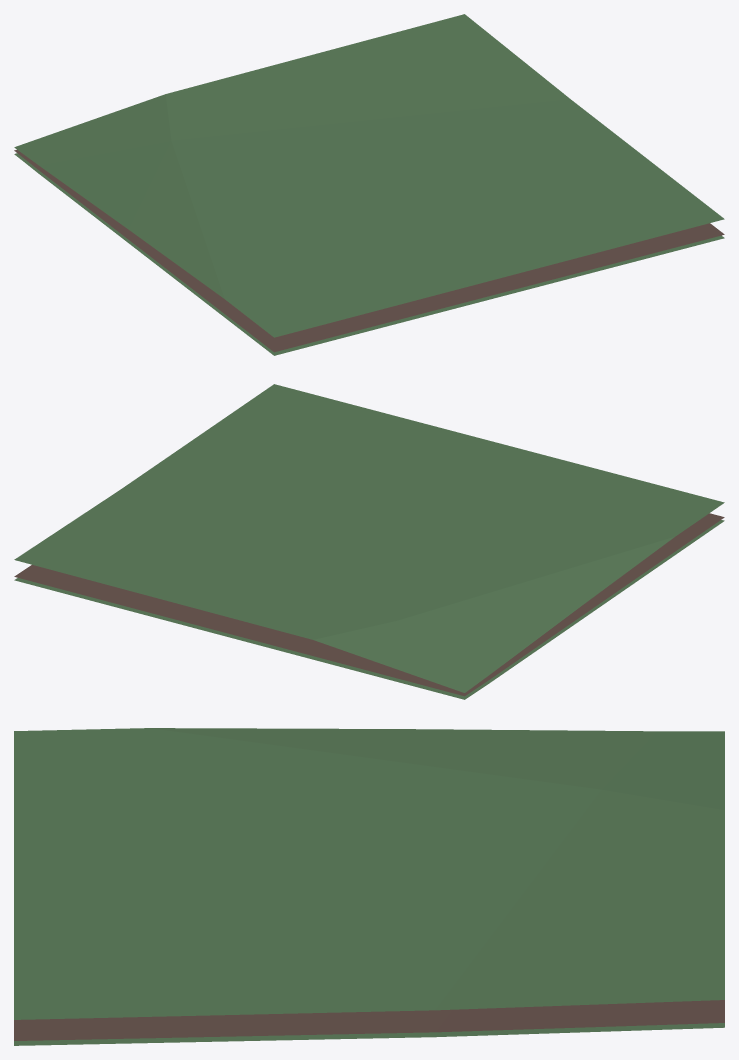
Rendered from cell_039.obj.
3 renders of one model, top to bottom at view 1: azimuth 30°, elevation 25°; view 2: azimuth 150°, elevation 25°; view 3: azimuth 270°, elevation 25°, orthographic. The views are drawn at different scales.
Size of the model in its own units: 1 by 0.0877 by 1.
